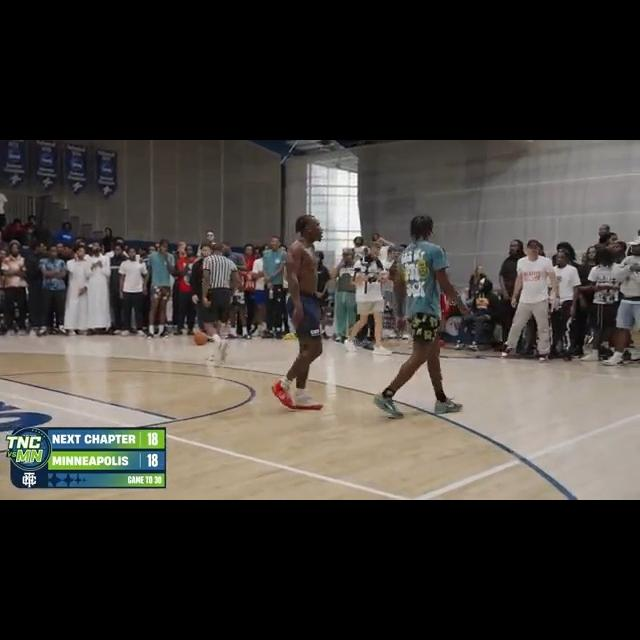basketball: (193, 329, 206, 345)
